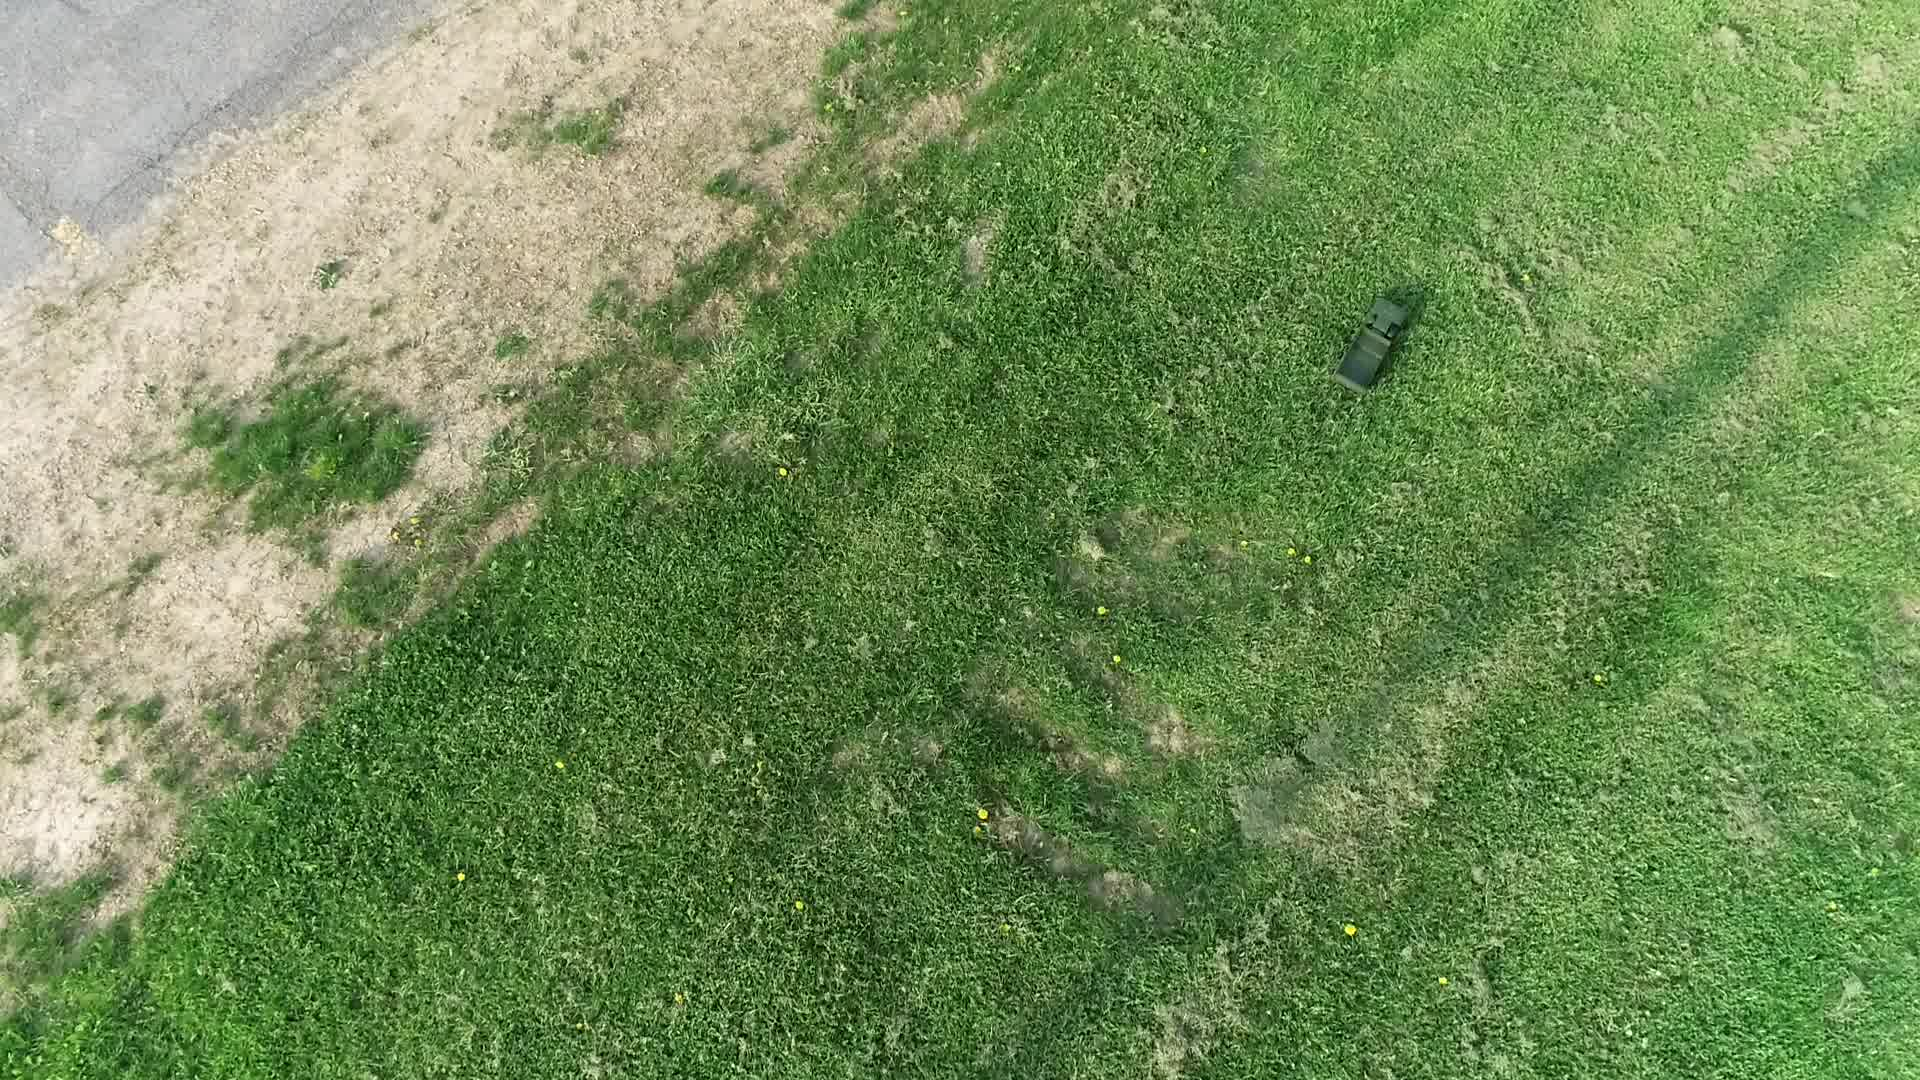transporter9: (1317, 291, 1418, 404)
